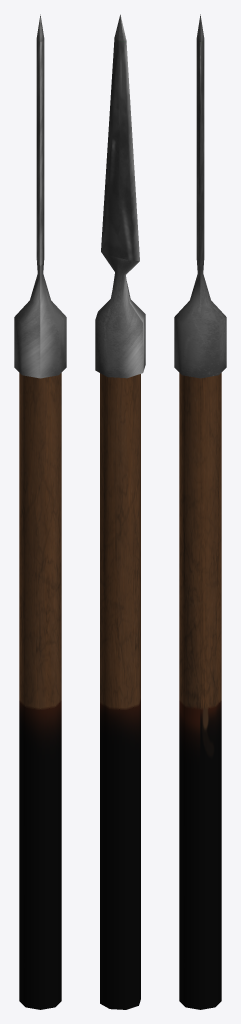
File: SpearBroken.fbx
3 views of the same model, side by side, from view 1: azimuth 90°, elevation 25°; view 2: azimuth 150°, elevation 25°; view 3: azimuth 270°, elevation 25° (orthographic).
Parts seen in each view (by area): view 1: SpearStick.001, SpearTip; view 2: SpearStick.001, SpearTip; view 3: SpearStick.001, SpearTip.
Boxes of the visible parts, x1,y1,x2,y2 form: SpearStick.001: [19, 373, 61, 1009]; SpearTip: [14, 14, 66, 378]; SpearStick.001: [100, 373, 140, 1009]; SpearTip: [95, 14, 145, 378]; SpearStick.001: [179, 373, 221, 1009]; SpearTip: [174, 14, 226, 378].
Bounding box in the file's own units: 4.91 × 102 × 4.91.
